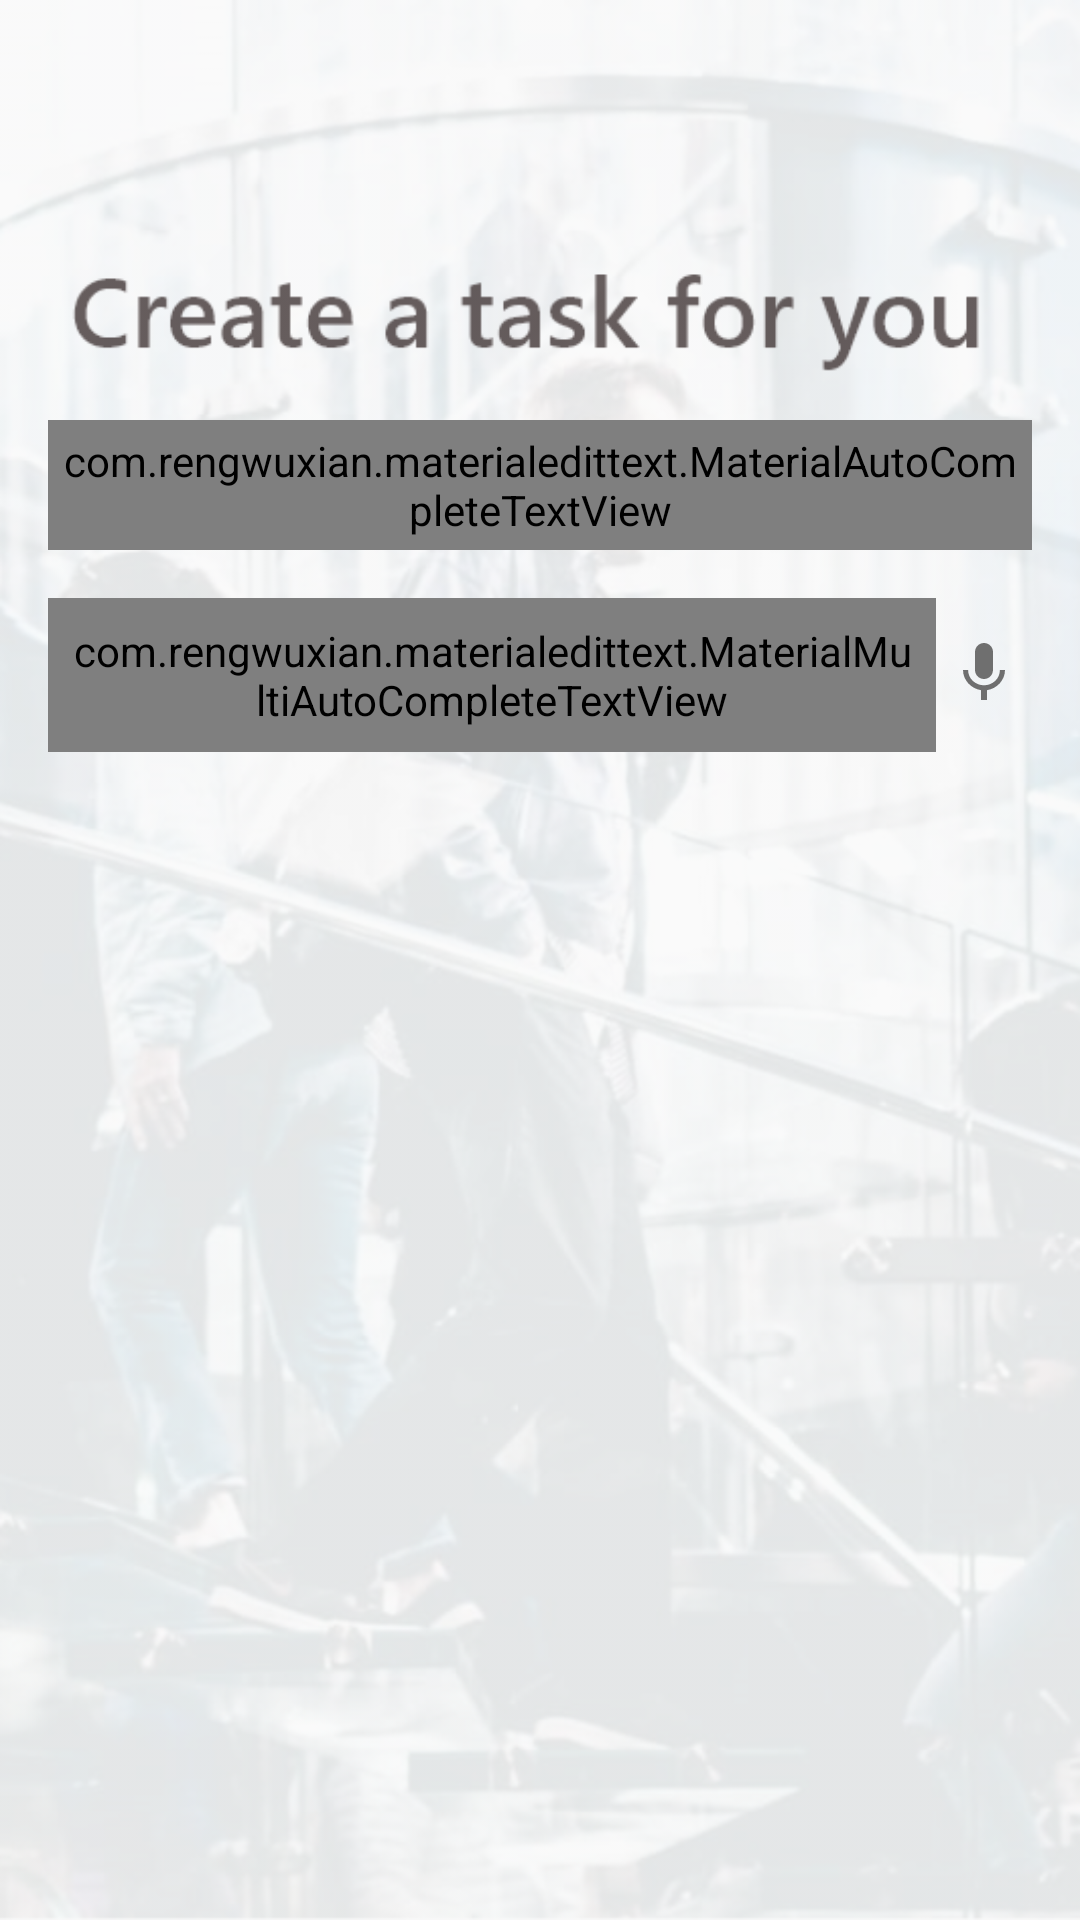

Where icons sit on this 1080 × 1920 app screen, as bbox(x1, y1, x2, y2):
voice: bbox(963, 643, 1005, 700)
